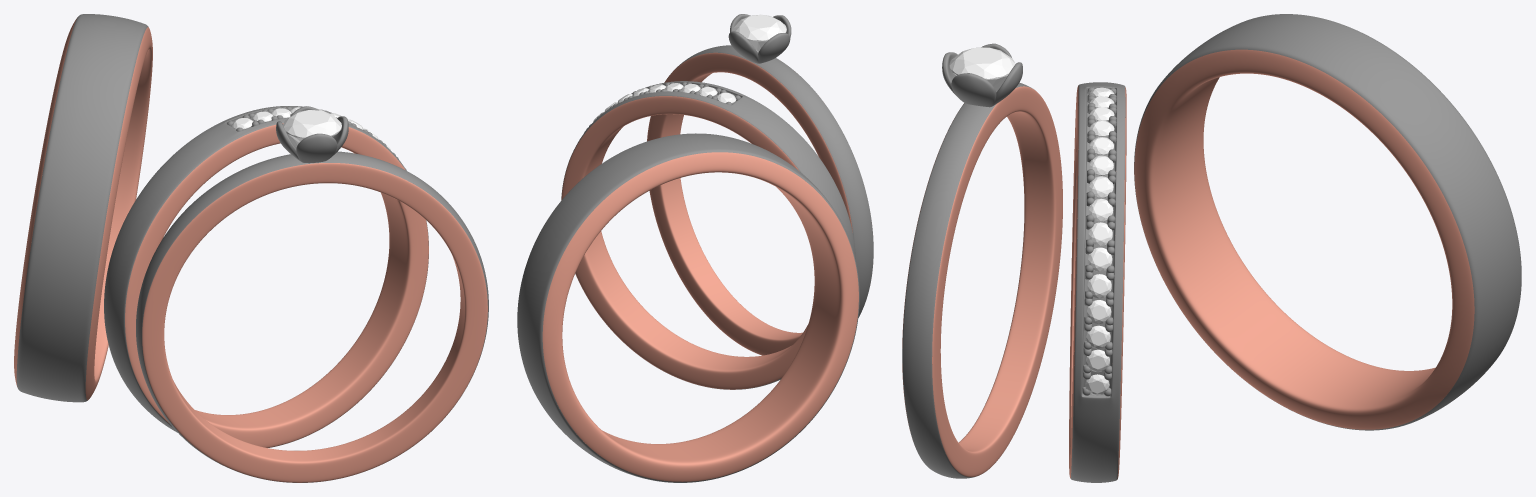
The picture shows the model from 3 angles, left to right: view 1: azimuth 30°, elevation 25°; view 2: azimuth 150°, elevation 25°; view 3: azimuth 270°, elevation 25°; orthographic projection. The views are drawn at different scales.
Visible parts, largest first — view 1: Torus004_1, Torus002, Torus011, Torus004, Torus011_1, Torus002_1, Brillant_1062, Plane017; view 2: Torus004, Torus011, Torus004_1, Torus002, Torus002_1, Torus011_1, Brillant_1062, Plane018, Plane015; view 3: Torus004, Torus004_1, Torus002, Torus002_1, Torus011_1, Torus011, Torus011_2, Brillant_1062, Plane016.
Part boxes in pixels (bbox=[...]): Torus004_1: bbox=[16, 14, 148, 402]; Torus002: bbox=[142, 163, 487, 482]; Torus011: bbox=[125, 123, 428, 447]; Torus004: bbox=[14, 17, 152, 400]; Torus011_1: bbox=[104, 106, 428, 447]; Torus002_1: bbox=[136, 151, 488, 482]; Brillant_1062: bbox=[283, 110, 341, 142]; Plane017: bbox=[296, 133, 337, 163]; Torus004: bbox=[542, 152, 858, 481]; Torus011: bbox=[561, 96, 808, 389]; Torus004_1: bbox=[517, 133, 859, 482]; Torus002: bbox=[647, 52, 852, 355]; Torus002_1: bbox=[667, 45, 873, 317]; Torus011_1: bbox=[561, 81, 855, 389]; Brillant_1062: bbox=[733, 14, 786, 51]; Plane018: bbox=[758, 33, 790, 63]; Plane015: bbox=[728, 31, 758, 63]; Torus004: bbox=[1134, 49, 1474, 429]; Torus004_1: bbox=[1134, 14, 1521, 430]; Torus002: bbox=[902, 86, 1062, 477]; Torus002_1: bbox=[902, 82, 1035, 478]; Torus011_1: bbox=[1070, 82, 1125, 482]; Torus011: bbox=[1069, 85, 1126, 479]; Torus011_2: bbox=[1081, 87, 1116, 397]; Brillant_1062: bbox=[949, 47, 1015, 86]; Plane016: bbox=[951, 73, 996, 107].
Size of what is drawn, in the model's own units: 2.08 by 2 by 2.77.
